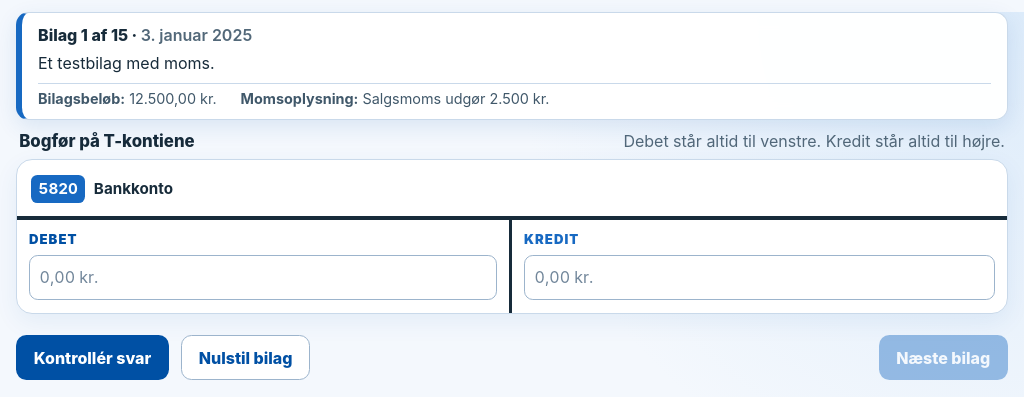
øvelsessiden › beholder momsoplysningen og formaterer ved feltets afslutning
Expected: the text "Momsoplysning: Salgsmoms udgør 2.500 kr." is shown, x1=241 y1=90 x2=549 y2=107
Step 1. Type "0" into the field labelled "Debet" → (263, 277), box x1=29 y1=255 x2=497 y2=300
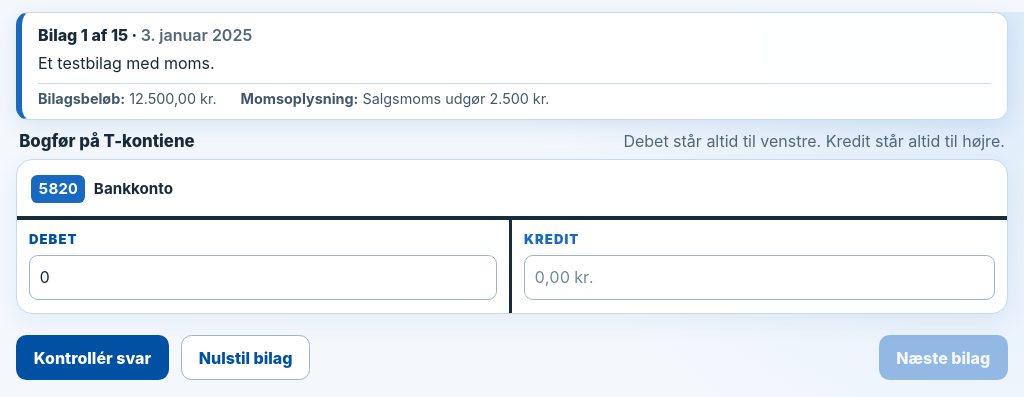
Step 2. Leave the field labelled "Debet", box x1=29 y1=255 x2=497 y2=300
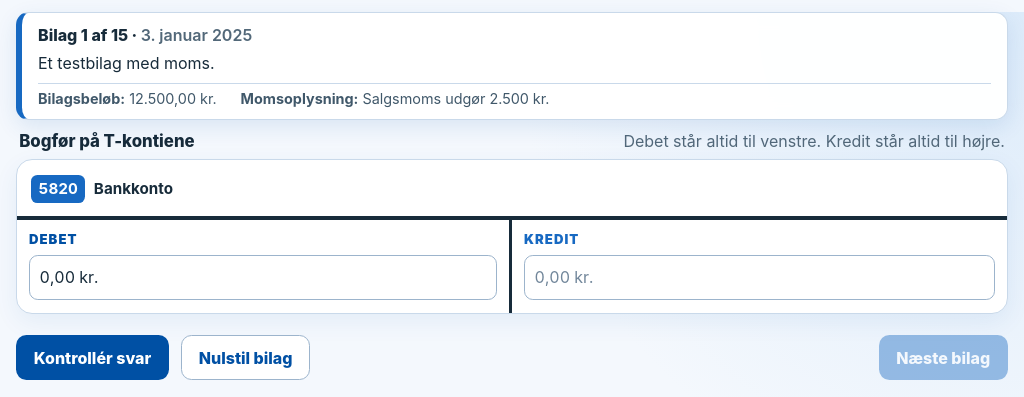
Now the field labelled "Debet" holds "0,00 kr."
Step 3. Type "2500" into the field labelled "Debet" → (263, 277), box x1=29 y1=255 x2=497 y2=300
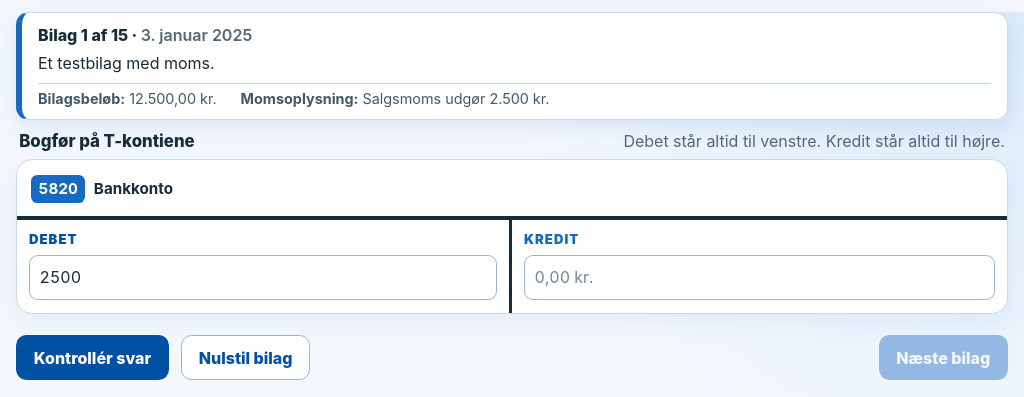
Step 4. Leave the field labelled "Debet", box x1=29 y1=255 x2=497 y2=300
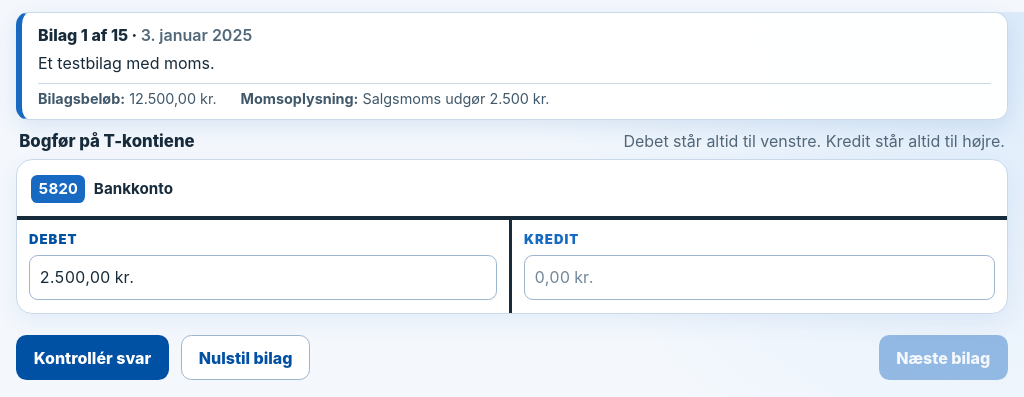
Now the field labelled "Debet" holds "2.500,00 kr.", box x1=29 y1=255 x2=497 y2=300
